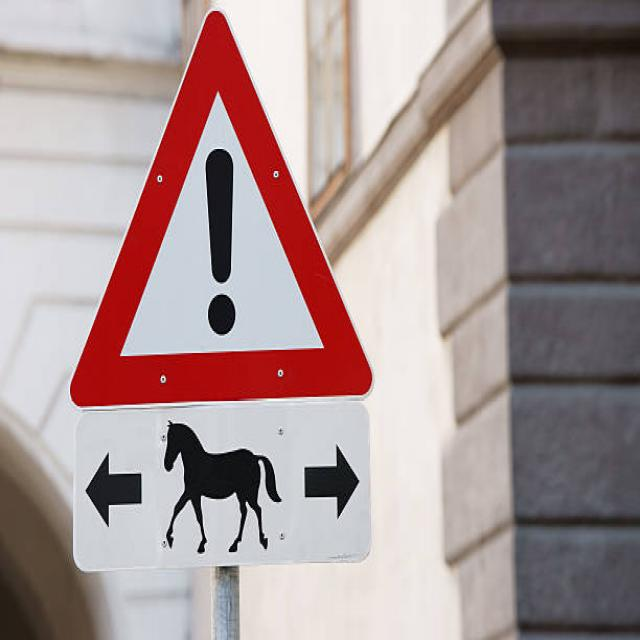warning: (60, 5, 382, 413)
